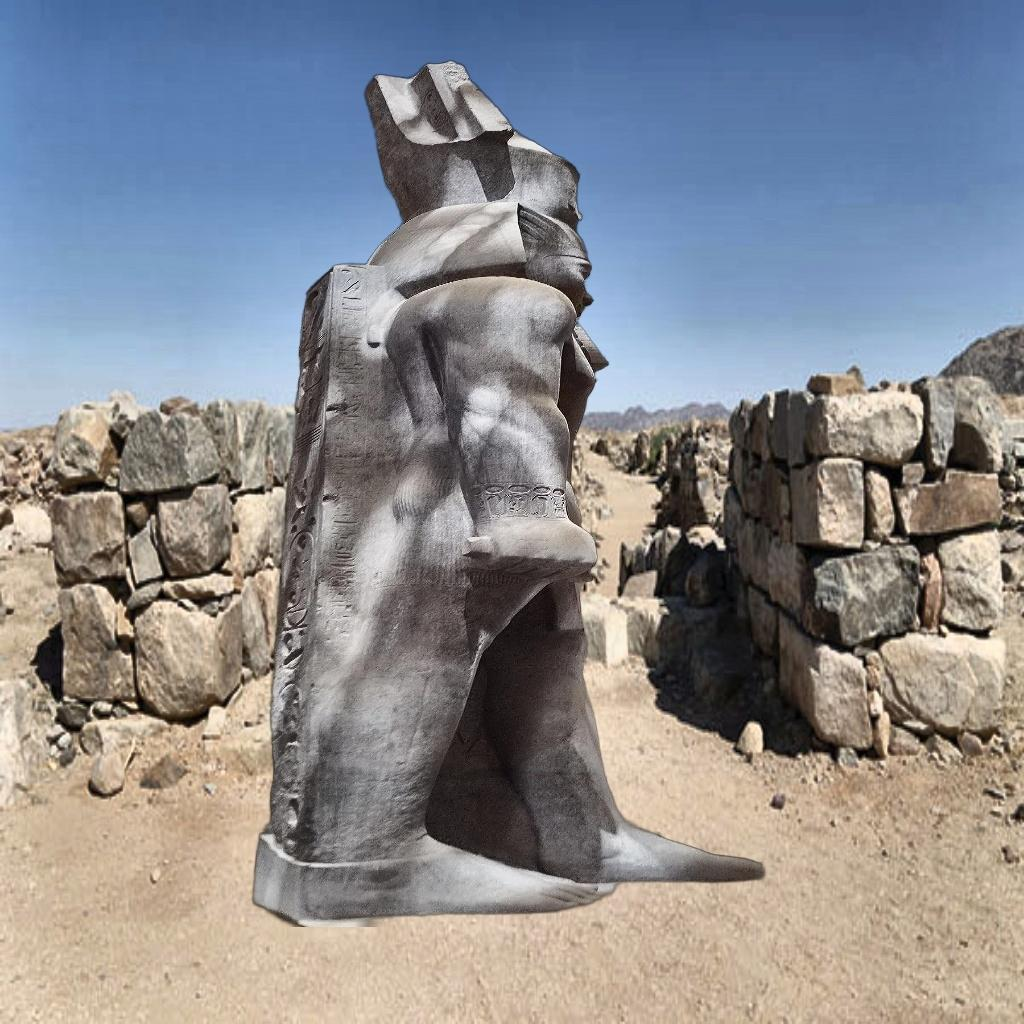Colossal Statue of Ramesses II beloved of Ptah: (240, 58, 804, 928)
